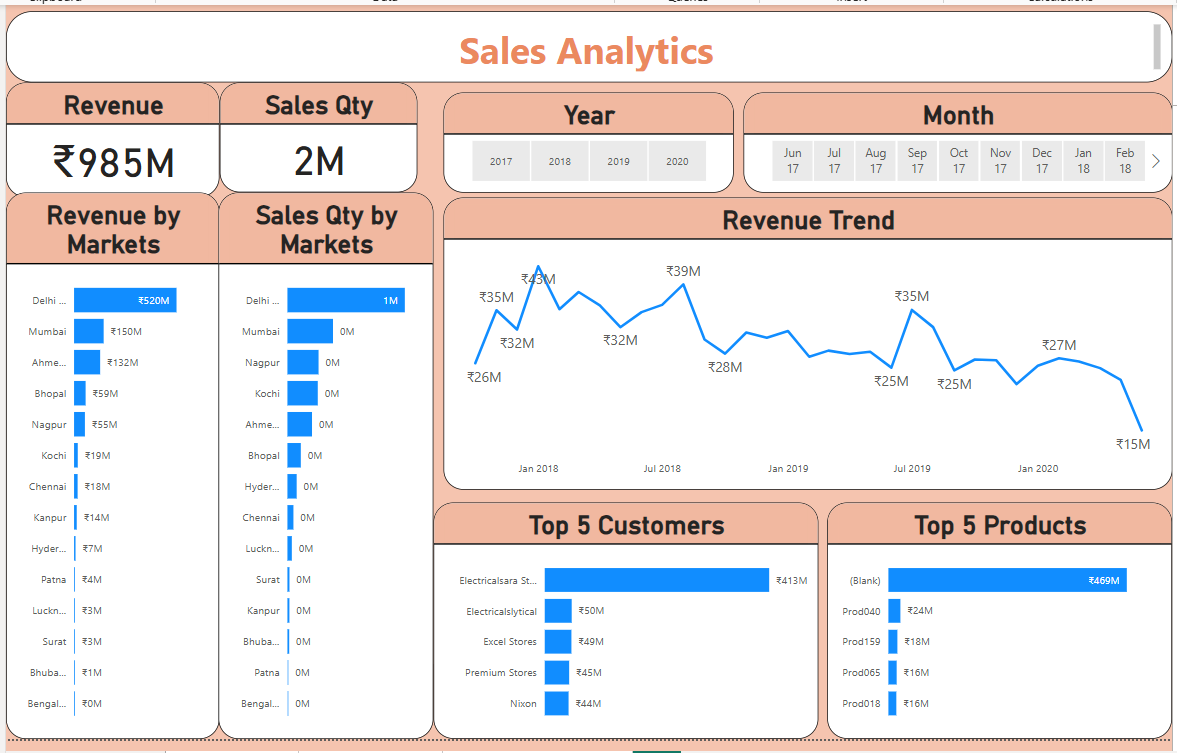

This screenshot's page, from the dashboard's own definition file:
{"tool":"powerbi","page":{"name":"Key Insights","canvas":[1350,850],"ordinal":0},"visuals":[{"type":"card","title":"Revenue","fields":{"Values":["BaseMeasures (2).Revenue"]},"box":[0,89.7,247.5,133.1],"z":0},{"type":"card","title":"Sales Qty","fields":{"Values":["BaseMeasures (2).Sales Qty"]},"box":[247.5,89.7,228.7,127.4],"z":1000},{"type":"barChart","title":"Revenue by Markets","fields":{"Y":["BaseMeasures (2).Revenue"],"Category":["sales markets.markets_name"]},"box":[0,217.1,247.5,632.5],"z":2000},{"type":"barChart","title":"Sales Qty by Markets","fields":{"Y":["BaseMeasures (2).Sales Qty"],"Category":["sales markets.markets_name"]},"box":[246,217.1,248.9,632.5],"z":3000},{"type":"slicer","title":"Year","fields":{"Values":["sales date.year"]},"box":[506.5,101.3,335.8,115.8],"z":4000},{"type":"slicer","title":"Month","fields":{"Values":["sales date.cy_date"]},"box":[853.9,101.3,496.4,115.8],"z":5000},{"type":"barChart","title":"Top 5 Customers","fields":{"Y":["BaseMeasures (2).Revenue"],"Category":["sales customers.custmer_name"]},"box":[495,576,445.8,273.5],"z":6000},{"type":"barChart","title":"Top 5 Products","fields":{"Y":["BaseMeasures (2).Revenue"],"Category":["sales products.product_code"]},"box":[950.9,576,399.4,273.5],"z":7000},{"type":"lineChart","title":"Revenue Trend","fields":{"Y":["BaseMeasures (2).Revenue"],"Category":["sales date.cy_date"]},"box":[506.5,222.9,843.8,338.7],"z":8000},{"type":"textbox","box":[0,7.2,1350.3,82.5],"z":8001}]}

Visuals, with their boxes in screenshot pixels (x1, y1, x2, y2):
"Revenue" card: region(6, 80, 219, 195)
"Sales Qty" card: region(219, 80, 416, 190)
"Revenue by Markets" barChart: region(6, 190, 219, 734)
"Sales Qty by Markets" barChart: region(218, 190, 432, 734)
"Year" slicer: region(442, 90, 730, 190)
"Month" slicer: region(740, 90, 1167, 190)
"Top 5 Customers" barChart: region(432, 498, 815, 733)
"Top 5 Products" barChart: region(824, 498, 1167, 733)
"Revenue Trend" lineChart: region(442, 195, 1167, 486)
textbox: region(6, 9, 1167, 80)
